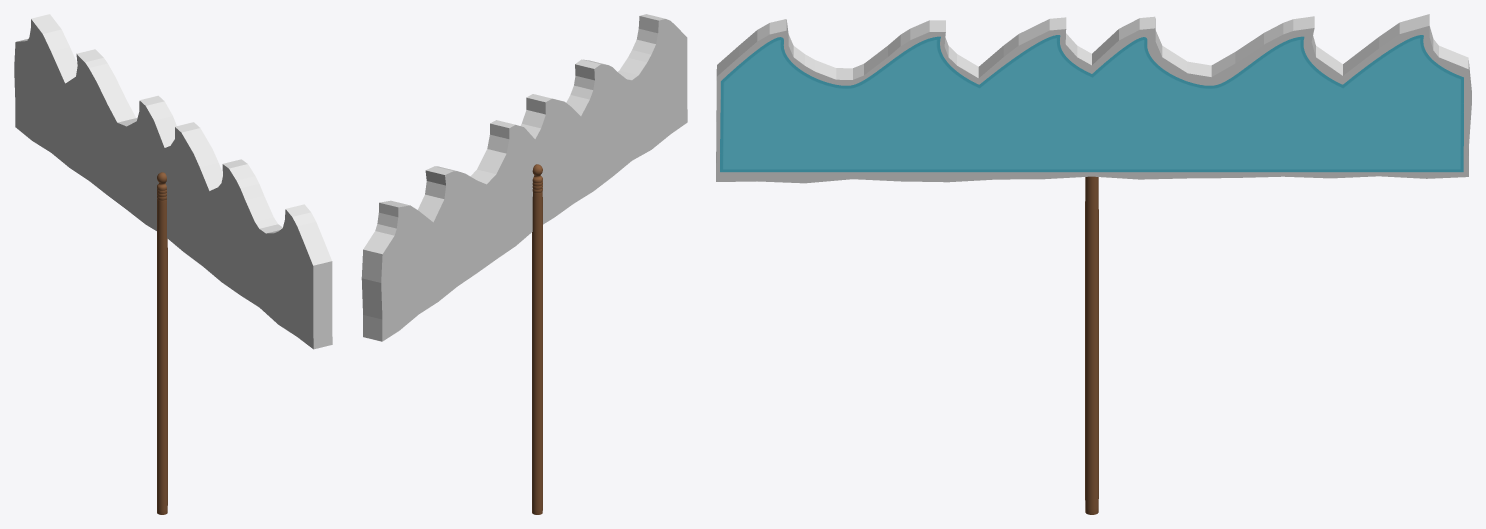
Rendered from Ola1_scn4.fbx.
3 views of the same model, side by side, from view 1: azimuth 30°, elevation 25°; view 2: azimuth 150°, elevation 25°; view 3: azimuth 270°, elevation 25° (orthographic). The views are drawn at different scales.
Visible parts, largest first — view 1: pCylinder4; view 2: pCylinder4; view 3: pCylinder4.
Boxes of the visible parts, x1,y1,x2,y2 form: pCylinder4: (14, 14, 332, 514); pCylinder4: (361, 14, 687, 514); pCylinder4: (716, 14, 1471, 514).
Size of the model in its own units: 0.8666 by 12.47 by 17.09.
